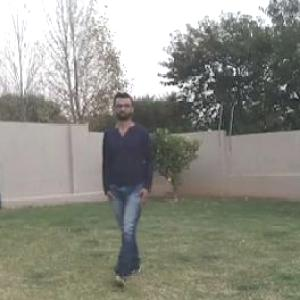follow: (106, 97, 149, 269)
